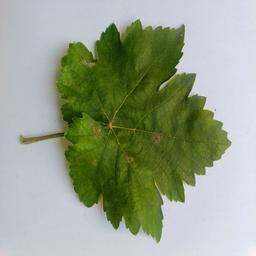Powdery-Mildew: (74, 114, 109, 158), (130, 42, 155, 73), (145, 125, 164, 148), (121, 151, 138, 168), (80, 56, 96, 73)
